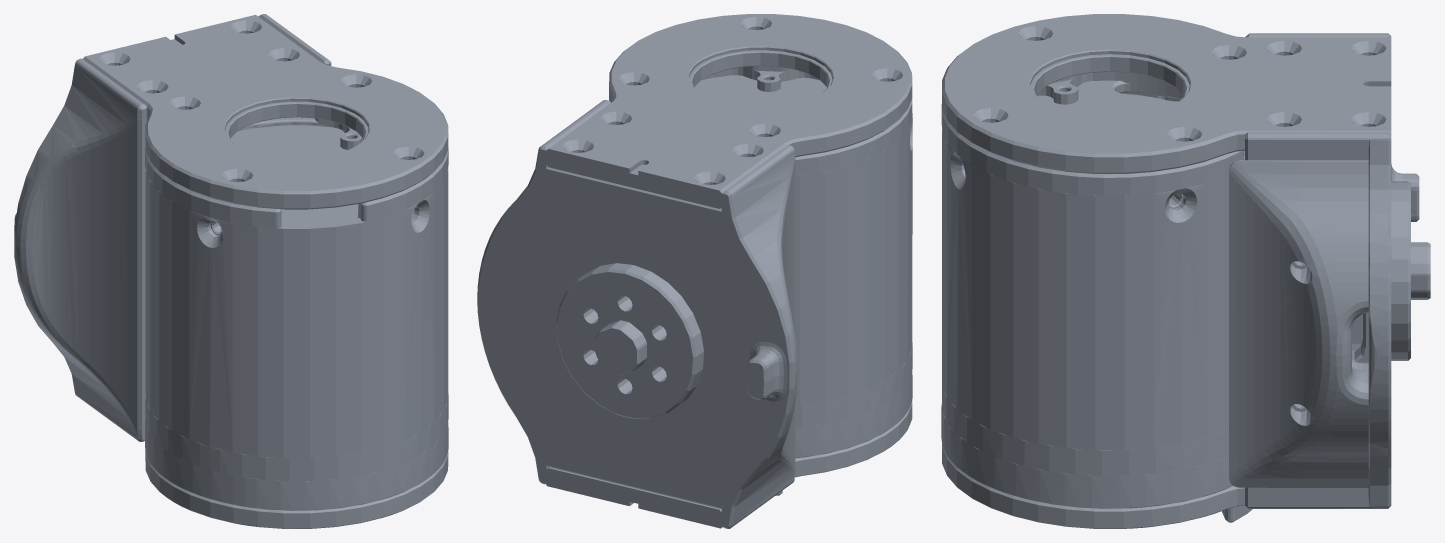
The picture shows the model from 3 angles, left to right: view 1: azimuth 30°, elevation 25°; view 2: azimuth 150°, elevation 25°; view 3: azimuth 270°, elevation 25°; orthographic projection. The views are drawn at different scales.
Bounding box in the file's own units: 0.072 × 0.0775 × 0.087.
